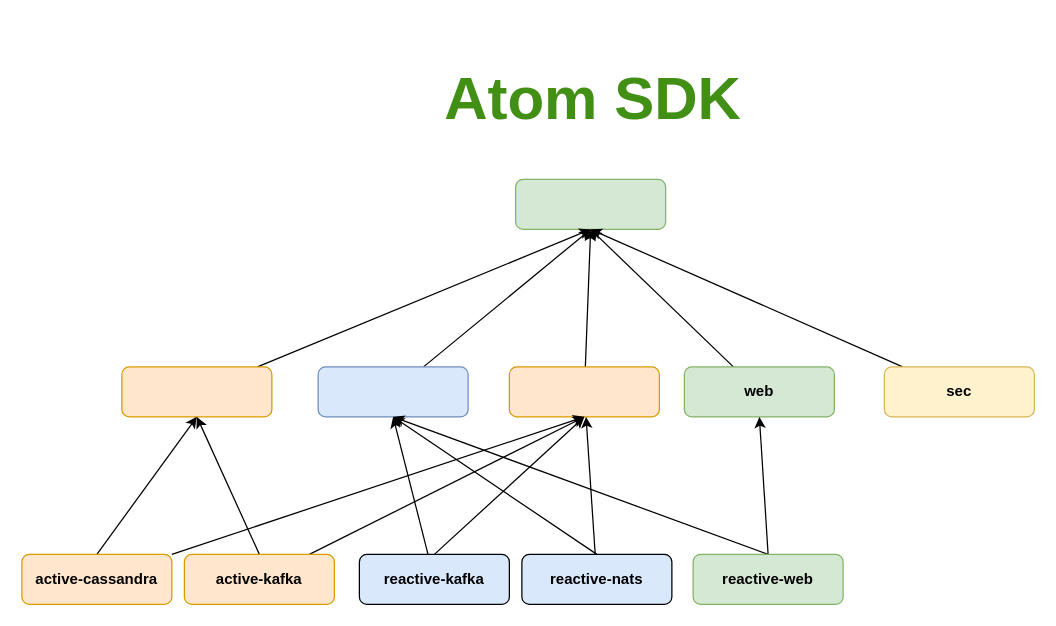
This 1056x626 diagram has some shape labels left out. Here are the shapes that lost their labels. From the top down, the centre of each, then its label:
At [590,203]: "core".
At [196,391]: "active".
At [392,391]: "reactive".
At [583,391]: "text".
